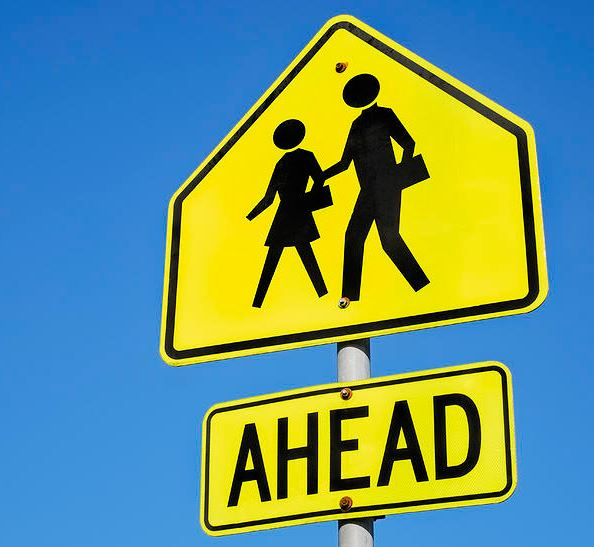slow: (155, 12, 543, 355)
